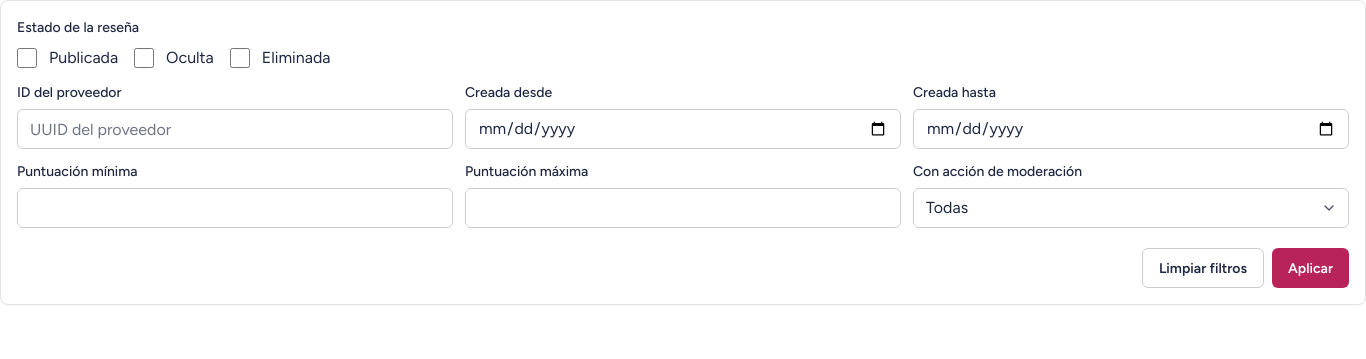
Test: US-077 · ReviewFiltersPanel › createdAtFrom > createdAtTo ⇒ role=alert y submit deshabilitado
Type "2026-06-15" into the date field labelled "Creada desde" at (683, 129), box [465,109,901,149]
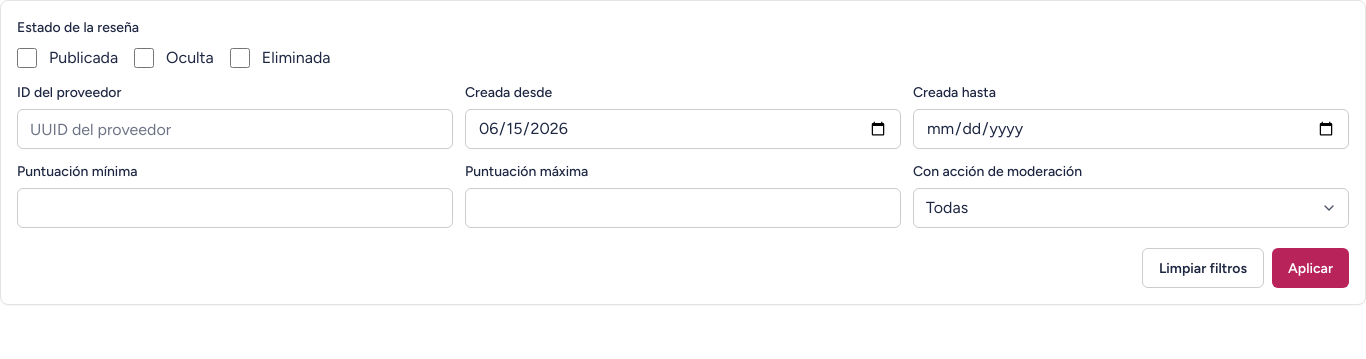
Type "2026-06-01" into the date field labelled "Creada hasta" at (1131, 129), box [913,109,1349,149]
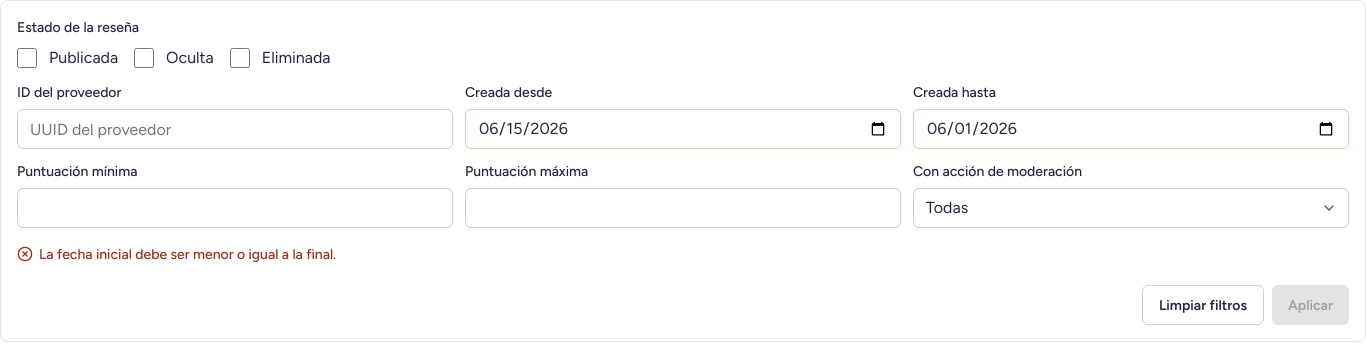
Expected: the message reads "La fecha inicial debe ser menor o igual a la final.", [39,246,336,263]
Expected: the button "Aplicar" is disabled, [1272,285,1349,325]
